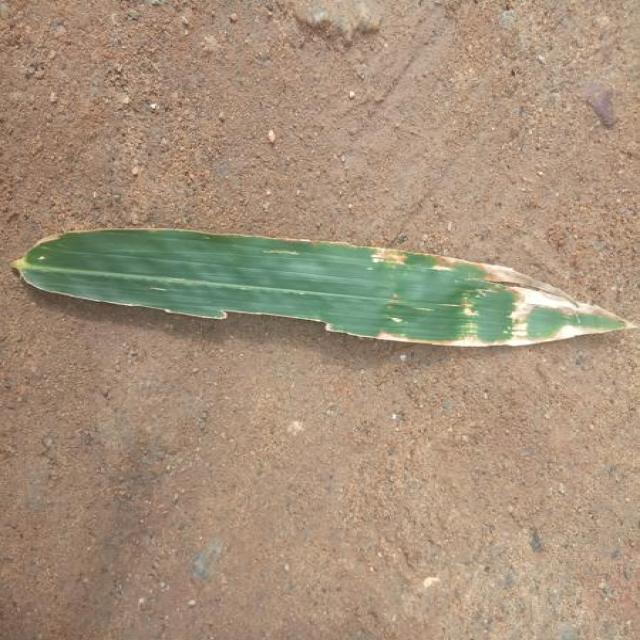Bamboo: (13, 229, 635, 346)
defectedBamboo: (165, 231, 635, 346)
